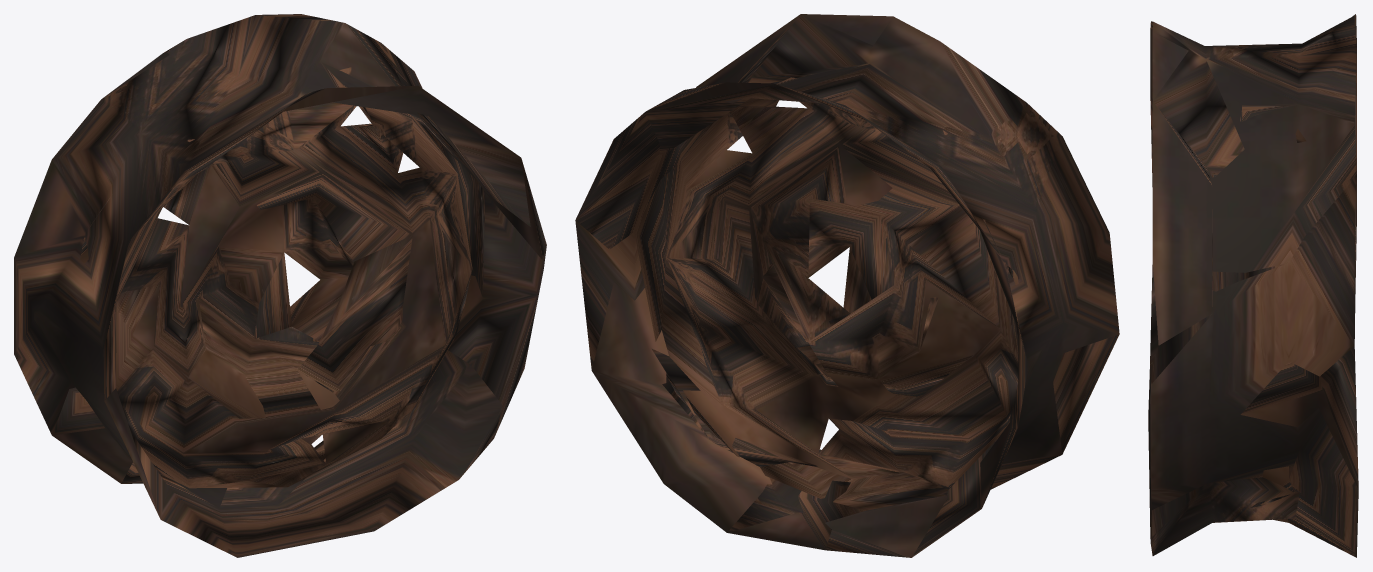
Rendered from wheel_rim.glb.
3 views of the same model, side by side, from view 1: azimuth 30°, elevation 25°; view 2: azimuth 150°, elevation 25°; view 3: azimuth 270°, elevation 25° (orthographic). The views are drawn at different scales.
Visible parts, largest first — view 1: rusted_wheel_rim_01; view 2: rusted_wheel_rim_01; view 3: rusted_wheel_rim_01.
Part boxes in pixels (left/top/right/bottom): rusted_wheel_rim_01: left=14, top=14, right=546, bottom=557; rusted_wheel_rim_01: left=575, top=14, right=1119, bottom=557; rusted_wheel_rim_01: left=1148, top=14, right=1358, bottom=557.
Size of the model in its own units: 0.3983 by 0.3926 by 0.1529.
Materials: 1 (1 with a texture image).
